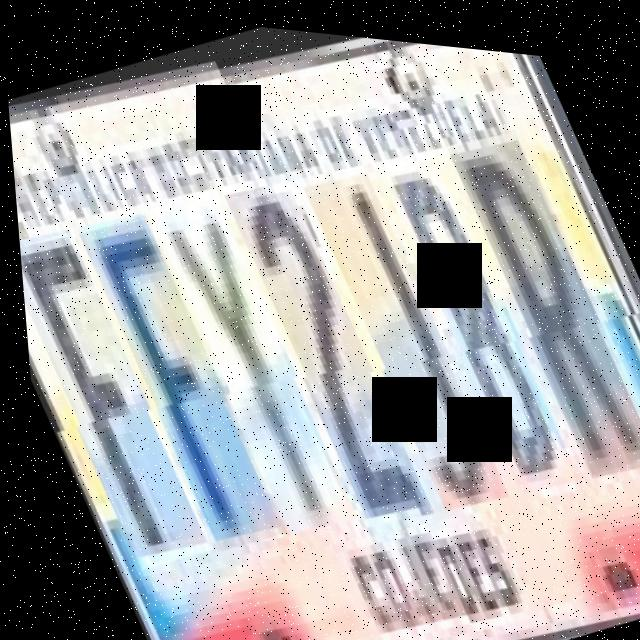2: (222, 170, 430, 524)
B: (373, 133, 576, 485)
F: (74, 206, 282, 555), (14, 226, 207, 575)
J: (297, 152, 505, 506)
R: (444, 113, 640, 468)
Y: (147, 189, 358, 544)
